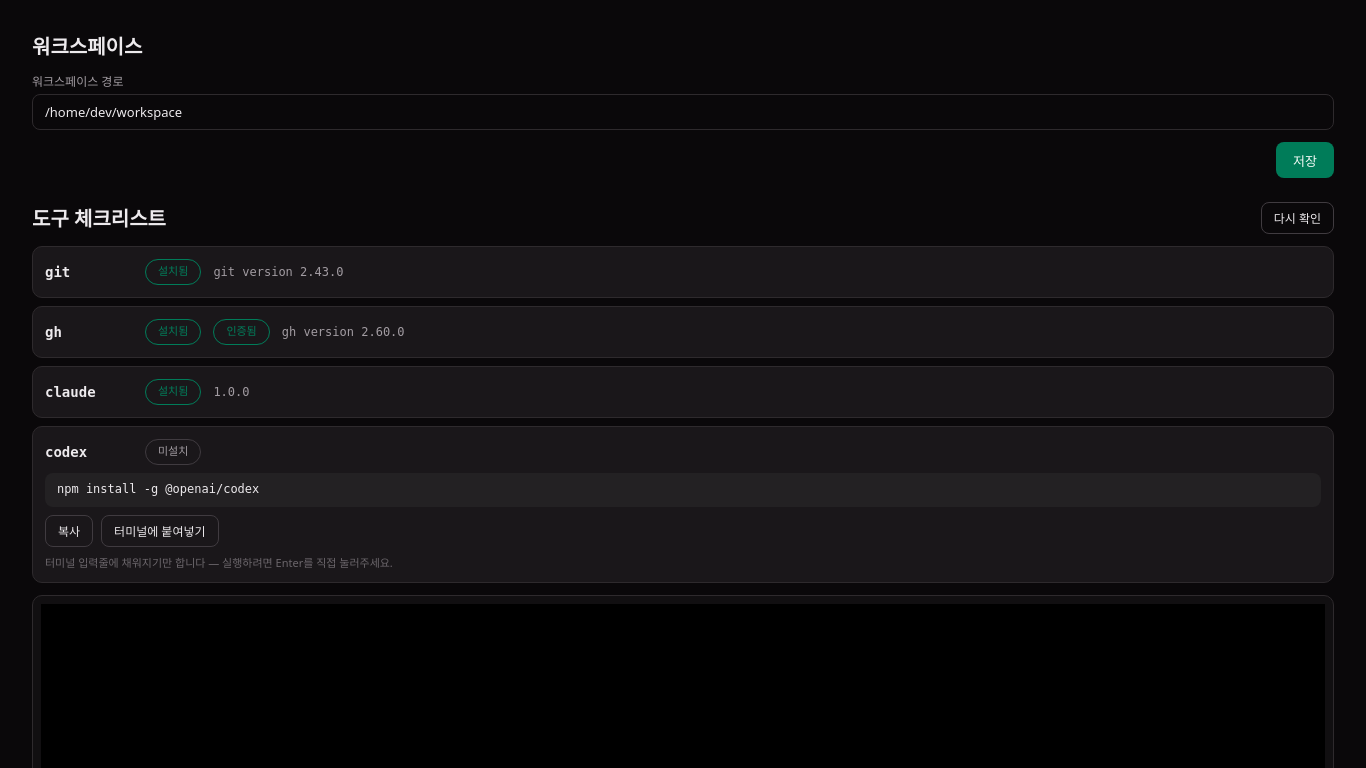
Test: OnboardingPanels › prefills the workspace field from getSettings and saves an edited value via setSettings
Replace the text in the field labelled "워크스페이스 경로" with "/home/dev/new-workspace" at (683, 112), box [32,94,1334,130]
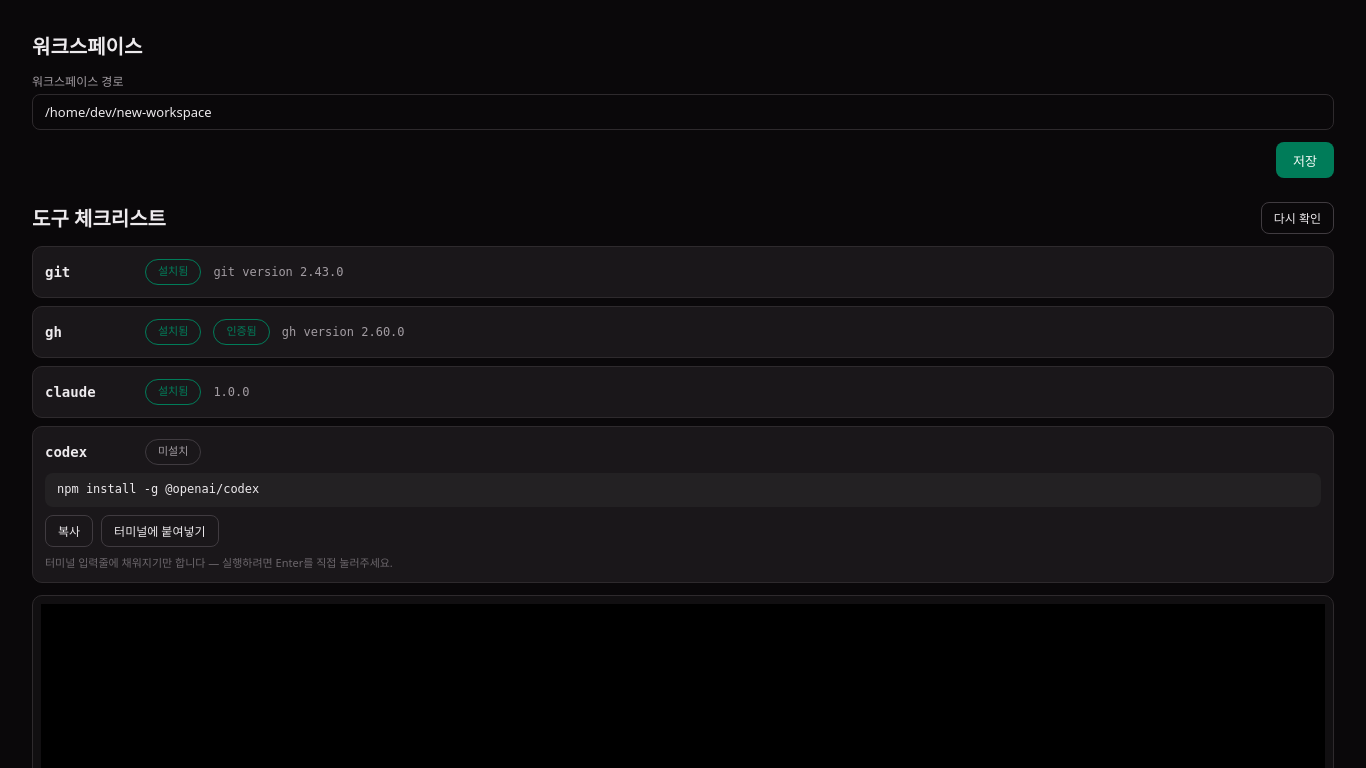
Click the button "저장" at (1305, 160), box [1276,142,1334,178]
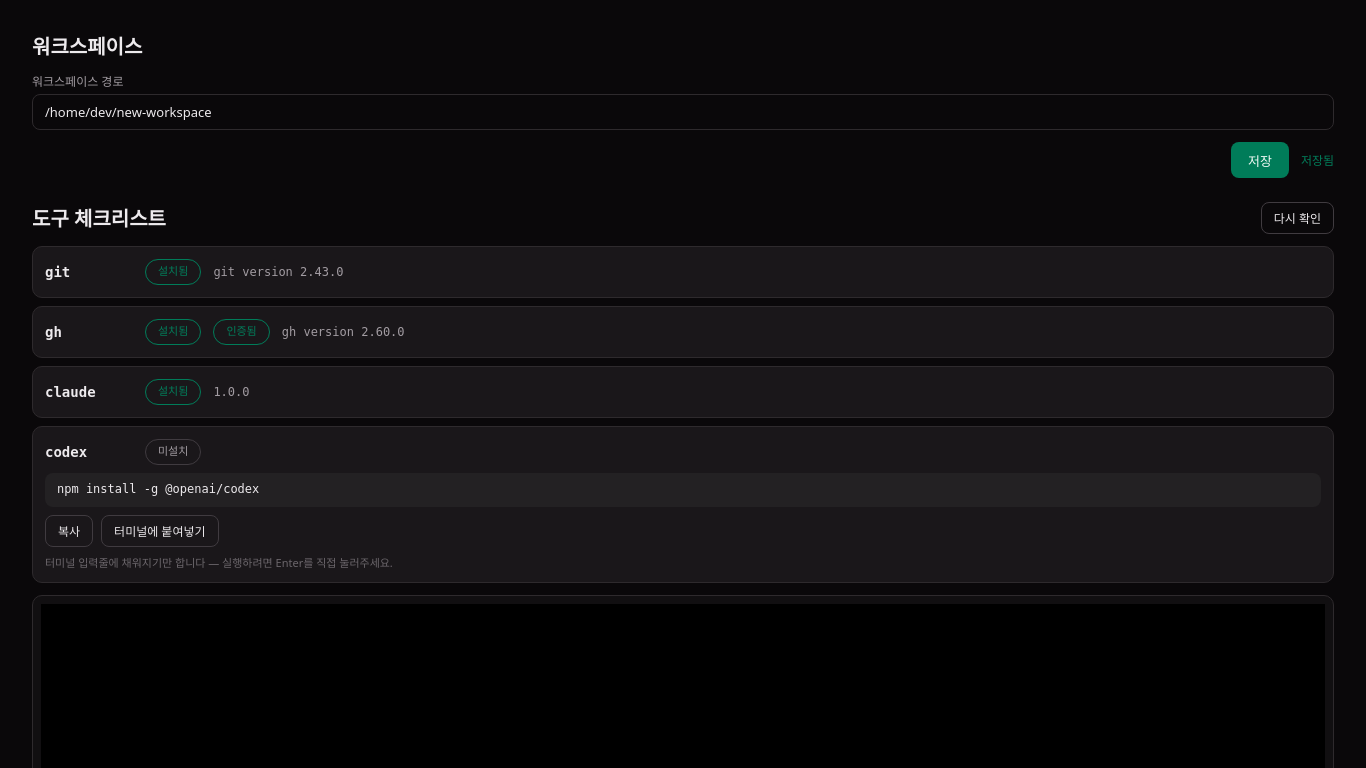
Expected: the text "저장됨" is shown, [1301,152,1334,169]
